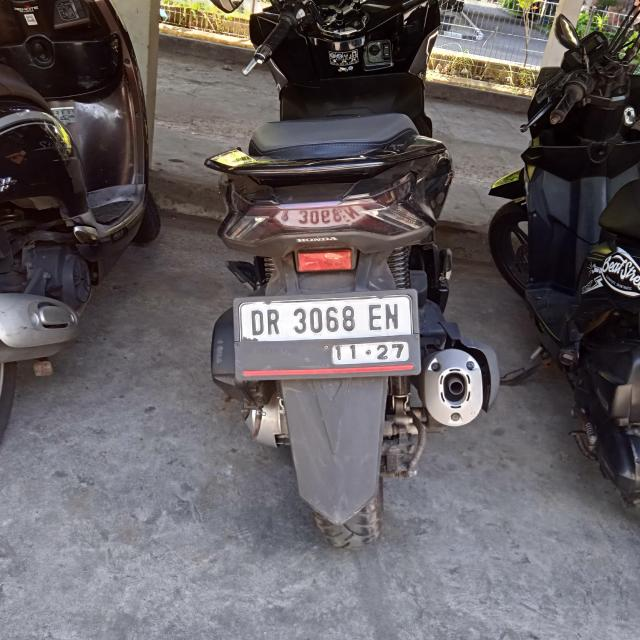plate: (240, 296, 415, 370)
